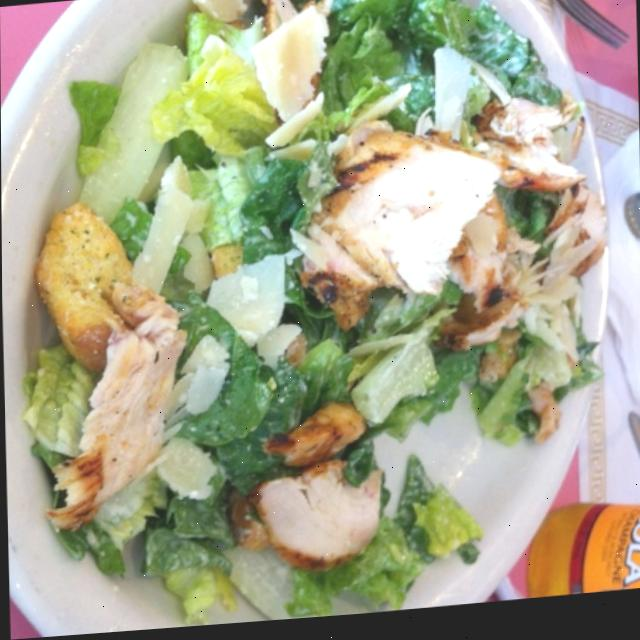蔬菜料理: (0, 0, 614, 640)
